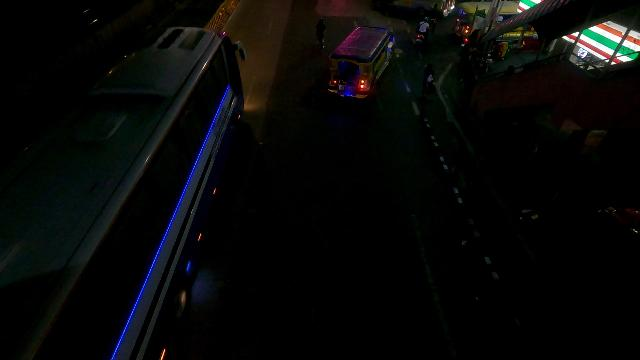bus: (0, 26, 245, 359)
jeepney: (329, 25, 395, 98)
